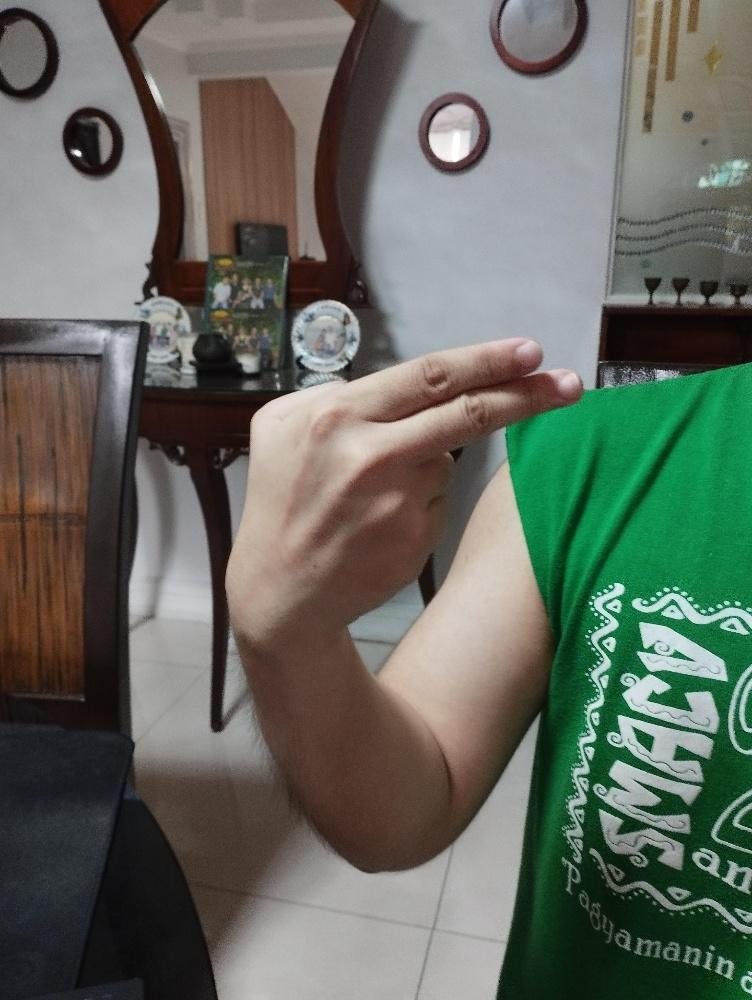h: (222, 333, 587, 646)
